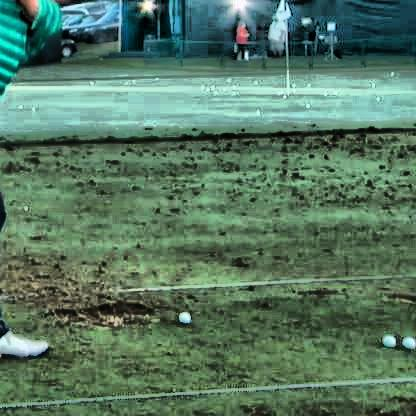golfball: (177, 312, 188, 319)
